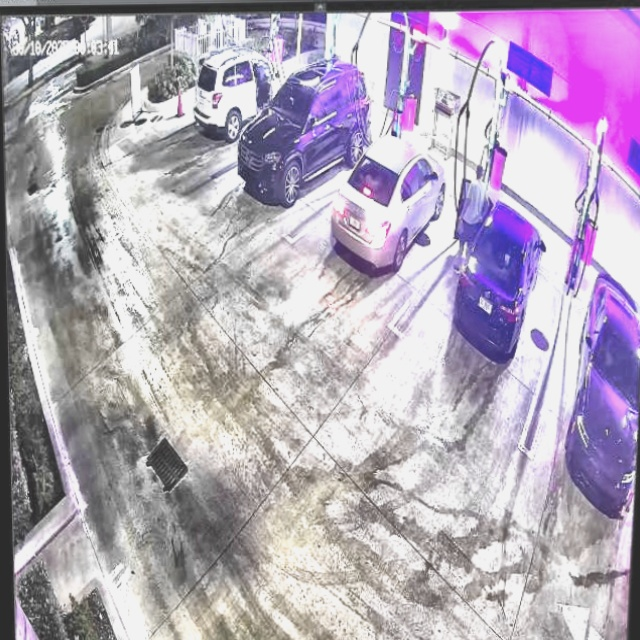Car: (237, 61, 370, 196), (452, 182, 549, 360), (334, 133, 447, 272)
